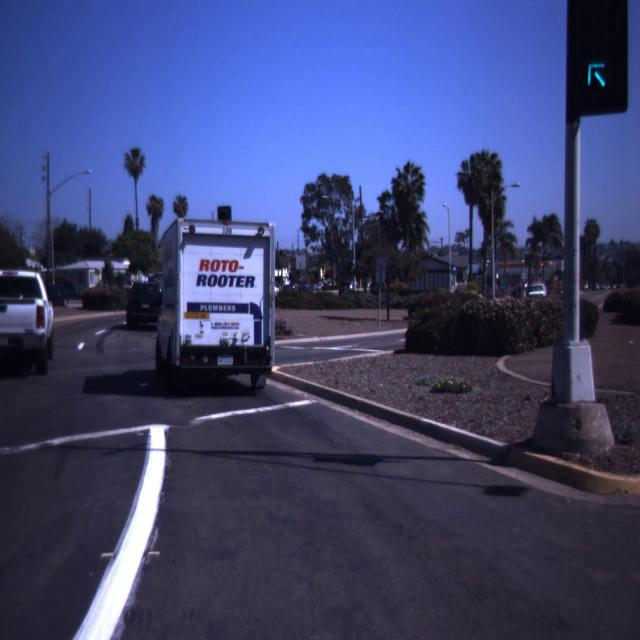yesil: (567, 0, 627, 113)
